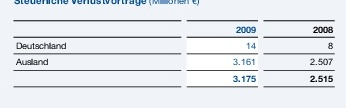table: (0, 0, 346, 108)
